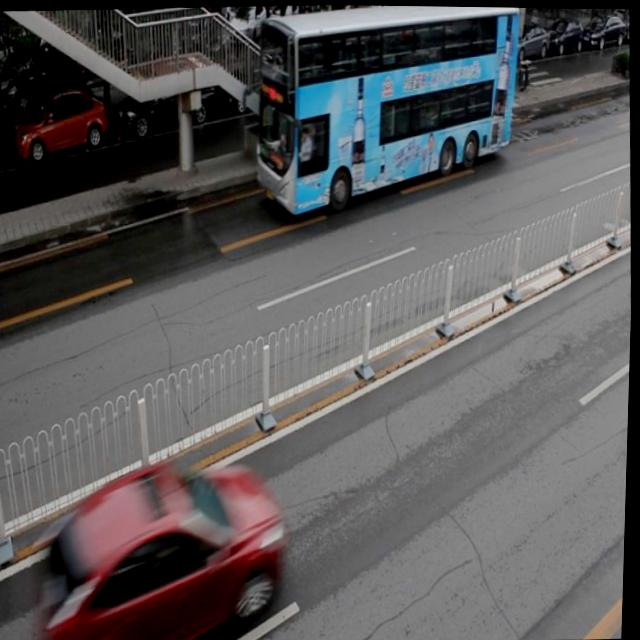car: (28, 452, 292, 640), (11, 88, 109, 165), (114, 71, 217, 136), (297, 35, 382, 103), (219, 48, 294, 114), (330, 57, 393, 127), (0, 114, 0, 172)
van: (249, 3, 525, 218)
